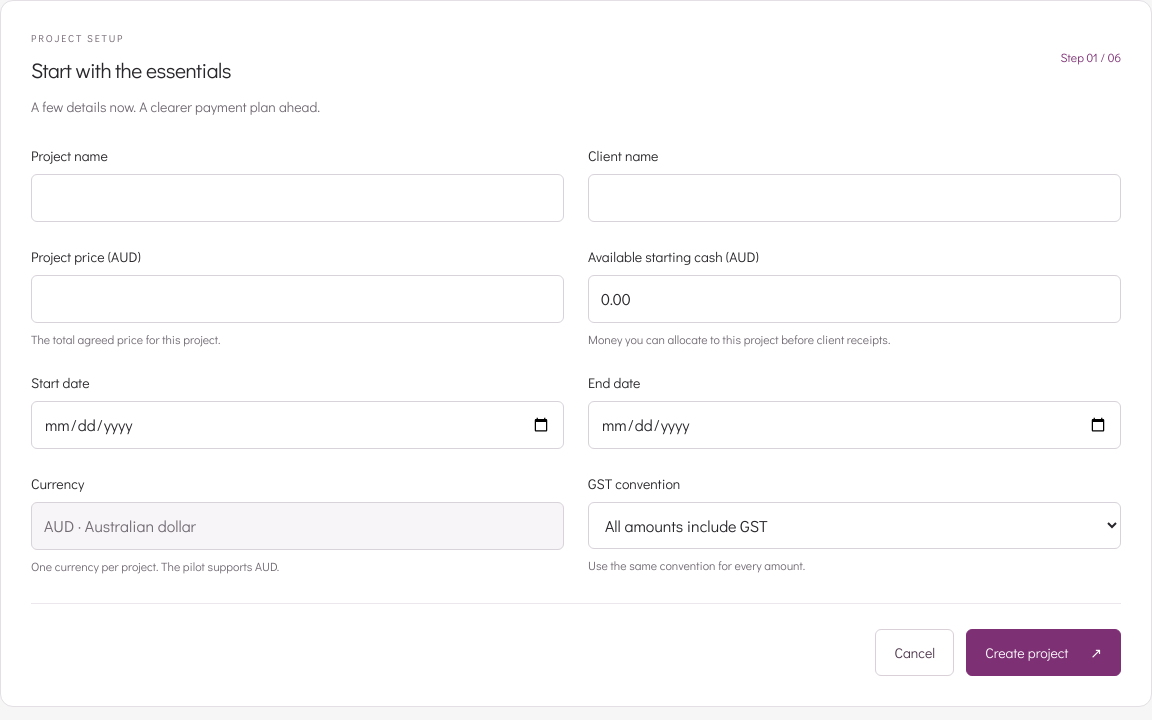
Scenario: explains invalid inputs without sending a save request
Click the button "Create project ↗" at (1044, 652), box [966, 629, 1121, 676]
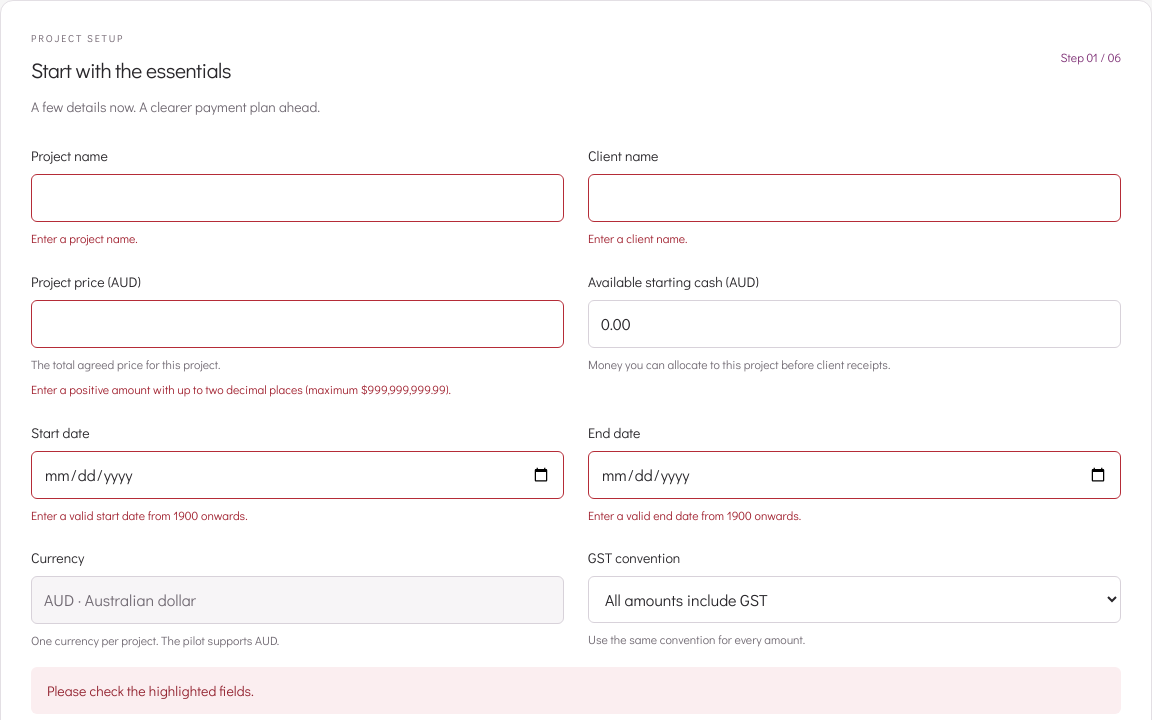
Expected: the text "Enter a project name." is shown, [31, 230, 138, 246]
